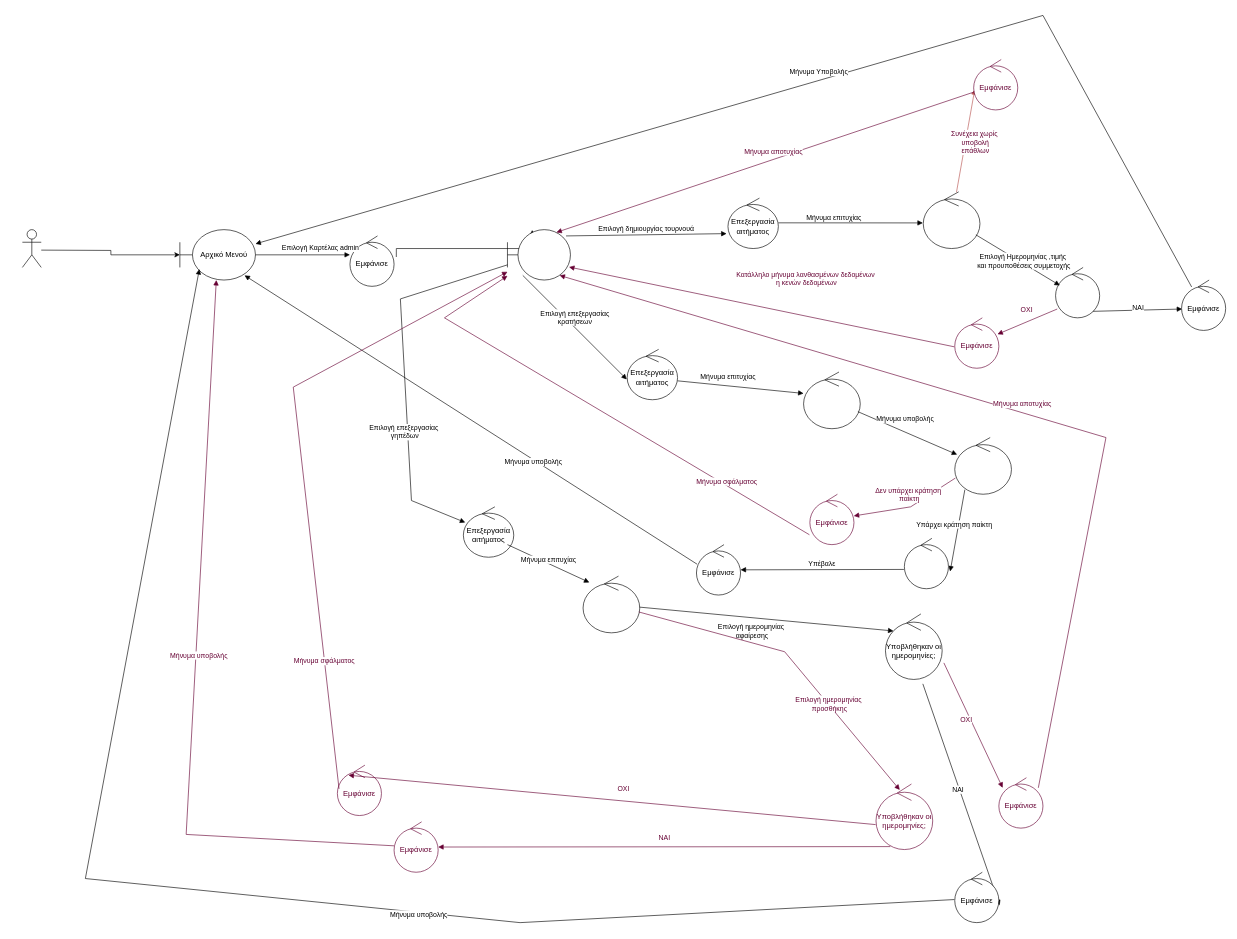
Some shapes in this 1237 by 939 pixel diagram are drawn without their labels. Here are the shapes that lost their labels. From the top down, the centre of each, then its label:
At point (951, 220): "Πρόσθεσε Έπαθλα".
At point (31, 248): "Διαχειριστής".
At point (538, 254): "Οθόνη Διαχειριστή".
At point (1077, 292): "Υποβλήθηκαν ορθά στοιχεία".
At point (831, 400): "Αναζήτηση κράτησης παίκτη".
At point (982, 465): "Βρέθηκε;".
At point (926, 563): "Αλλαγή στοιχείων κράτησης".
At point (611, 604): "Αφαίρεση η προσθήκη Γηπέδου".
